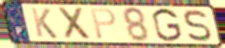8: (123, 6, 152, 44)
G: (151, 7, 184, 43)
K: (29, 7, 59, 40)
P: (89, 7, 118, 41)
S: (183, 9, 214, 43)
X: (56, 6, 93, 41)
